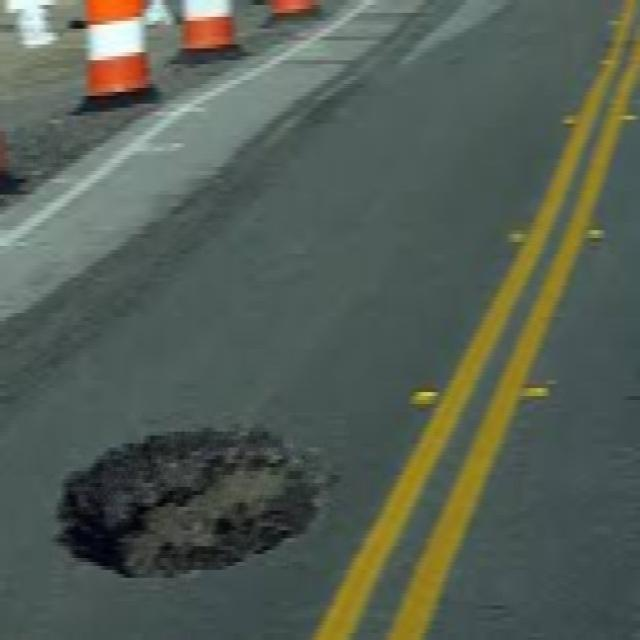Pothole: (42, 416, 330, 582)
